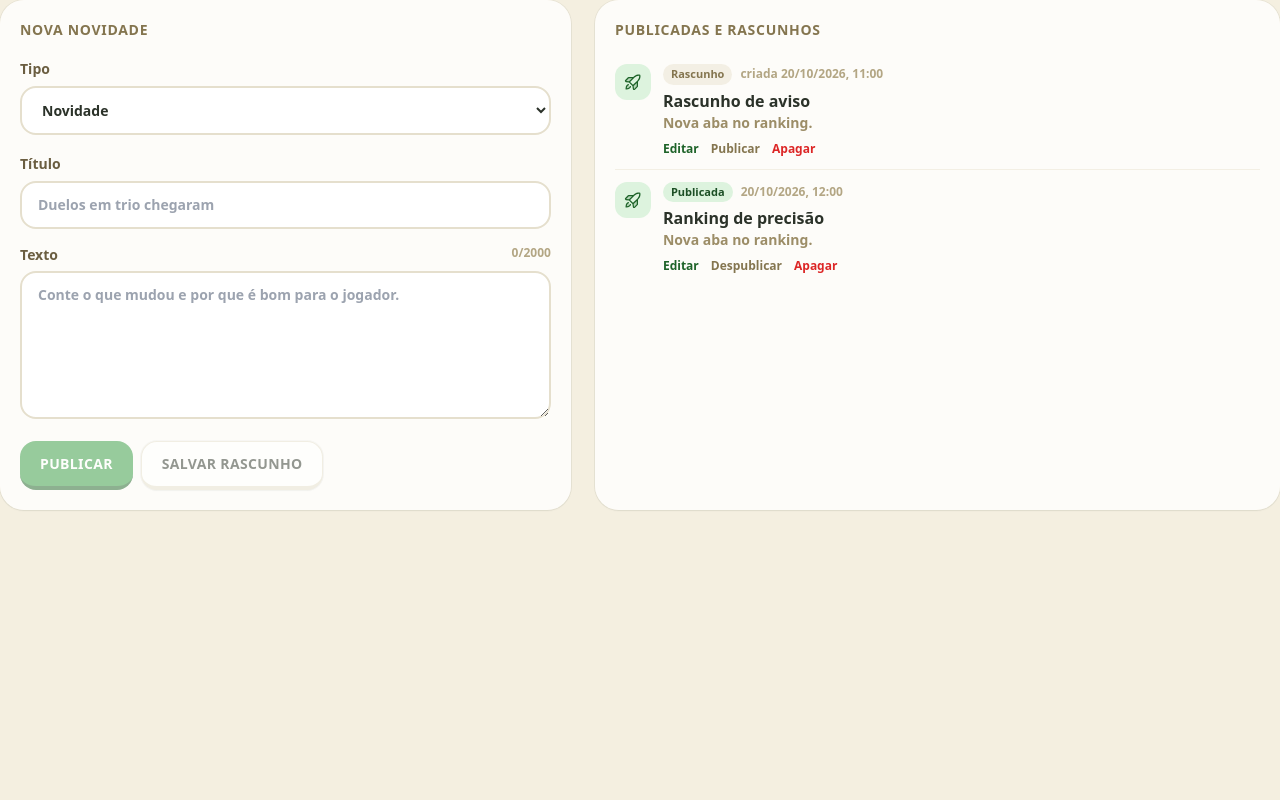
Test: AnnouncementsPanel › publishes a new announcement
The image size is (1280, 800).
Select "Correção" in the dropdown labelled "Tipo" at coordinates (285, 110), box [20,86,551,135]
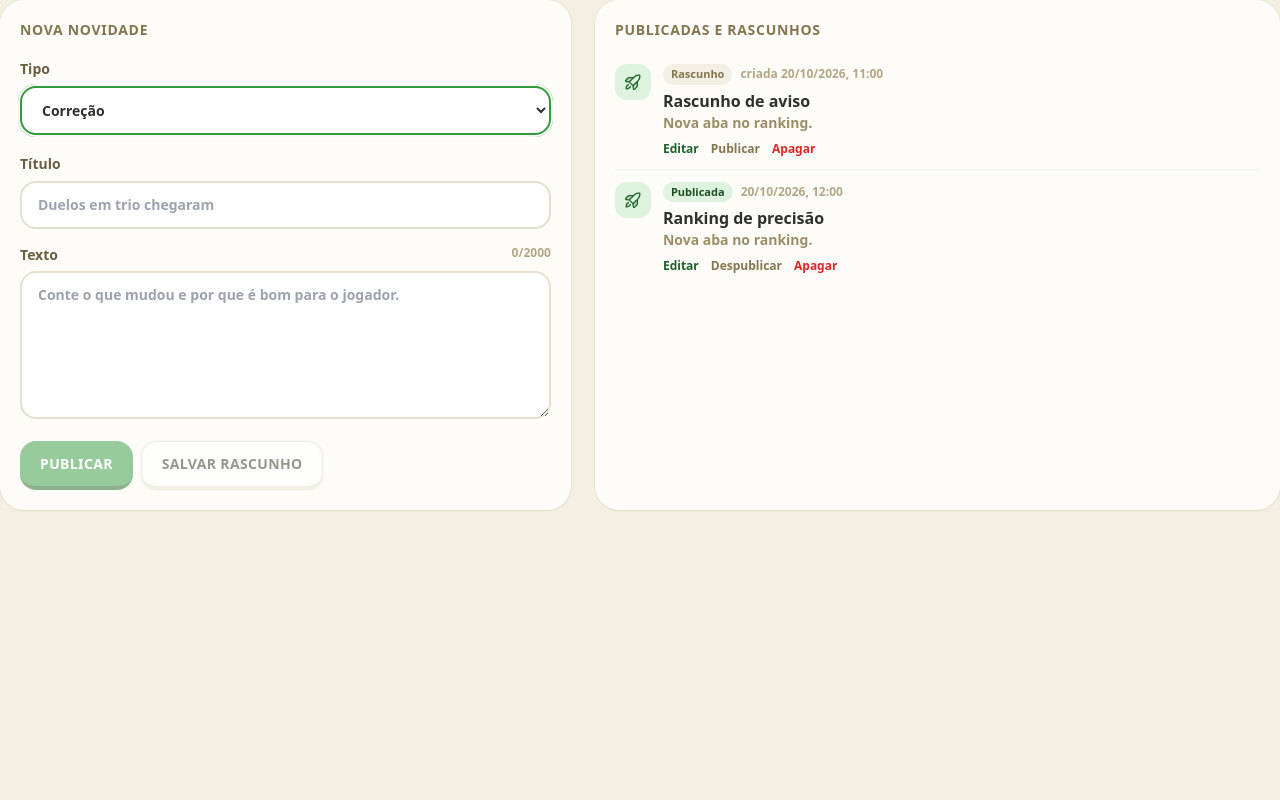
Type "Bug do timer corrigido" into the field labelled "Título" at coordinates (285, 205), box [20,181,551,229]
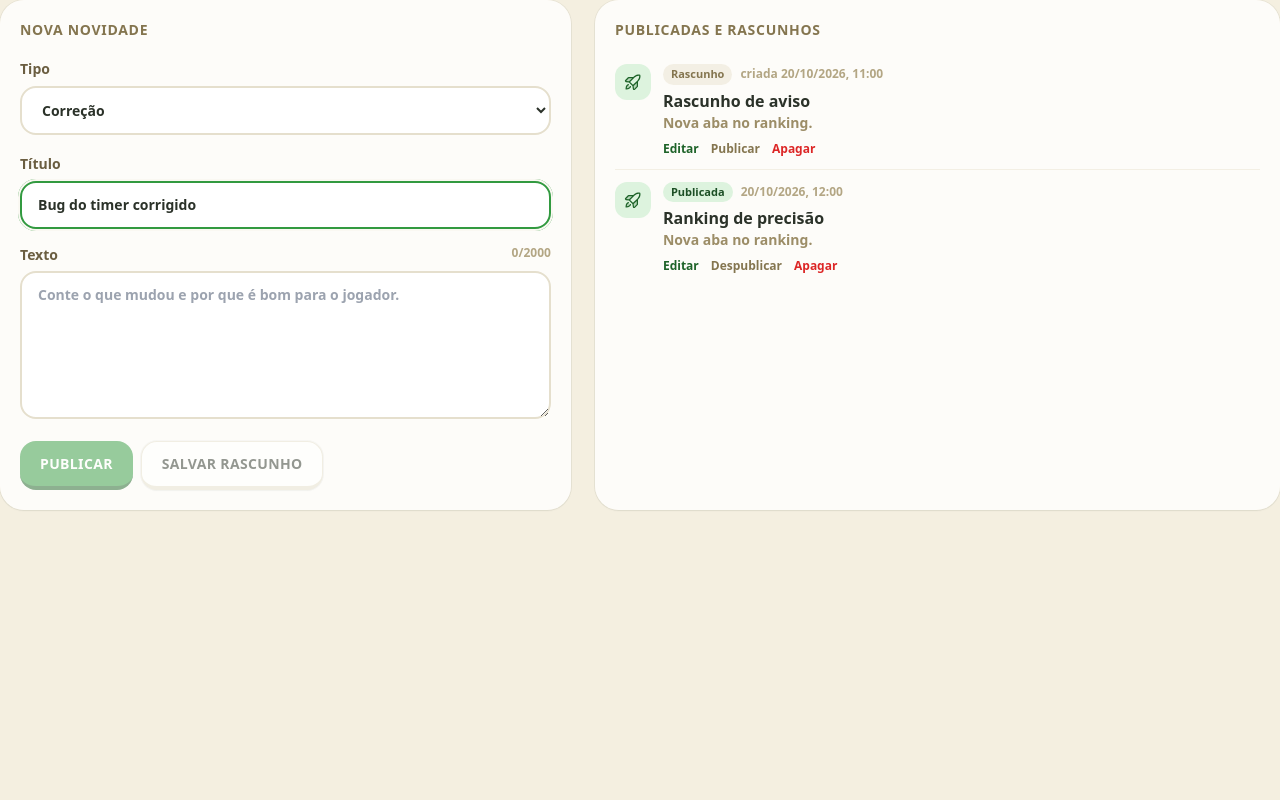
Type "O tempo não trava mais." into the text box labelled "Texto 0/2000" at coordinates (285, 345), box [20,271,551,419]
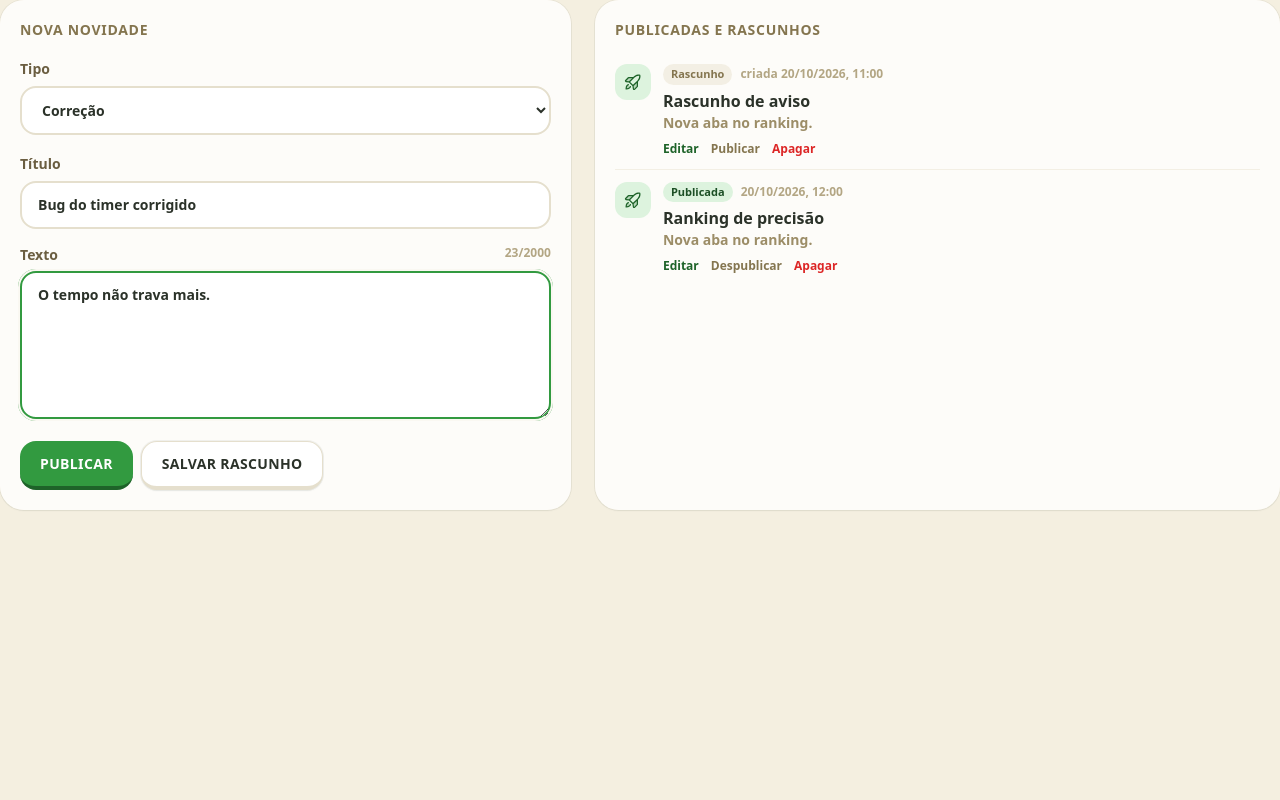
Note: the form comes first, so its "Publicar" is the first one on the page
Click the button "Publicar" below "Texto" at coordinates (76, 466), box [20,441,133,490]
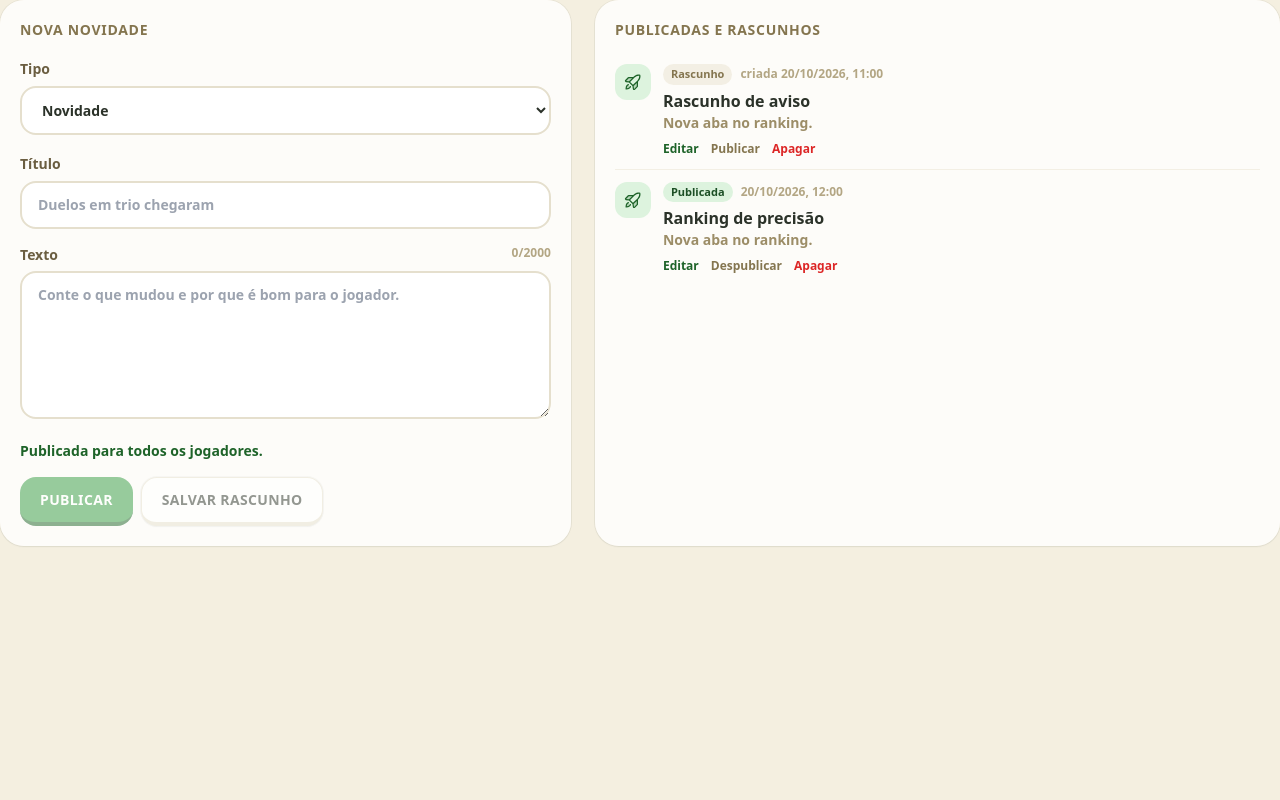
Check: the text "Publicada para todos os jogadores." is shown, box [20,441,263,460]
